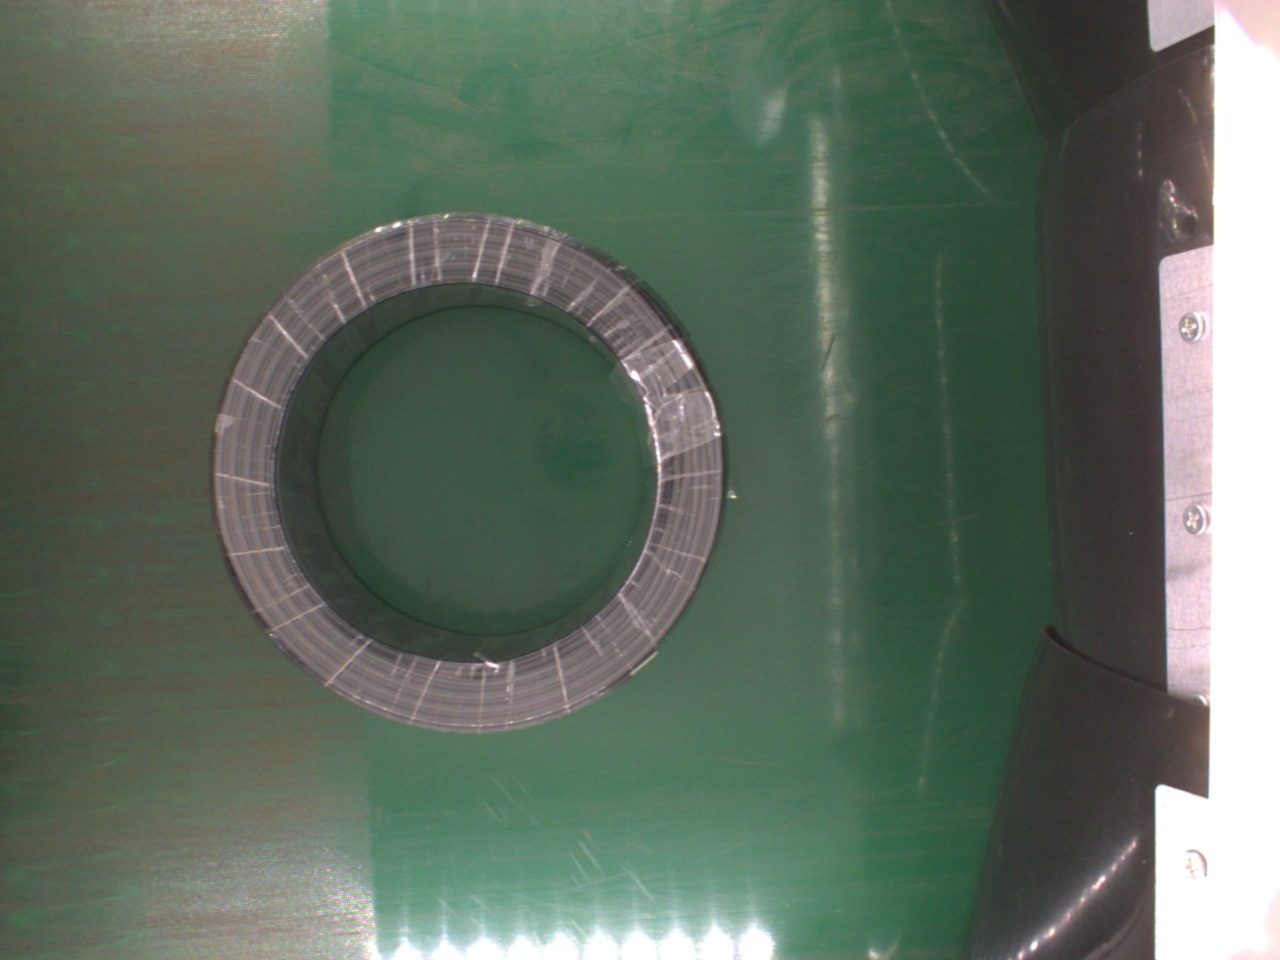black: (206, 214, 726, 731)
